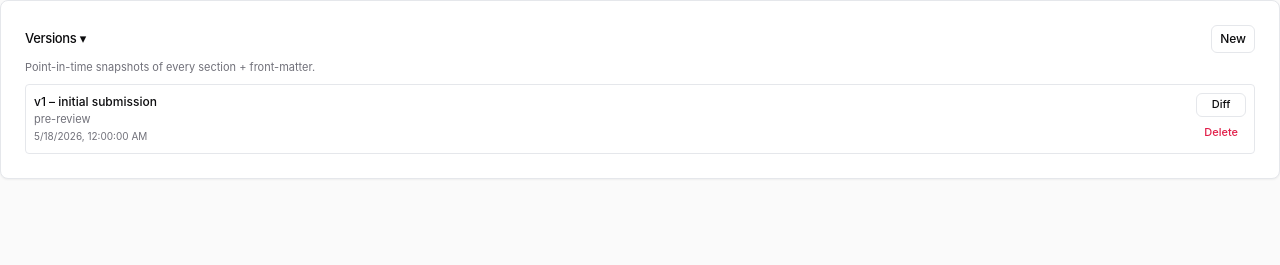
Test: VersionPanel › toggles diff visibility per row
The image size is (1280, 265).
Click the button with test id "snapshot-diff-s1" at [1221, 104], box x1=1196 y1=92 x2=1246 y2=116
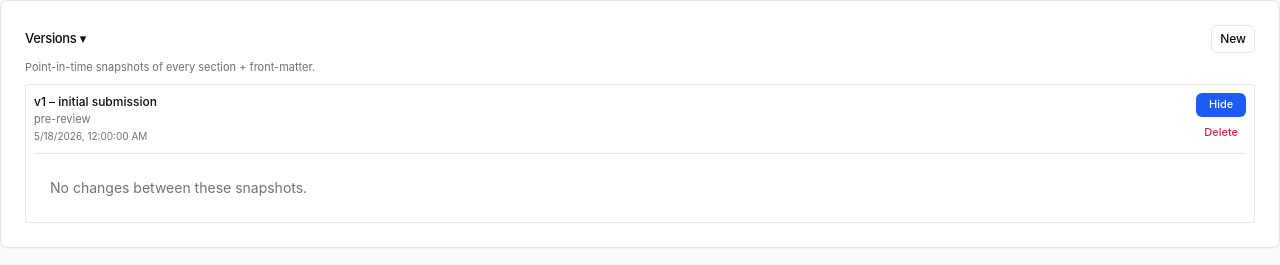
Check: the button with test id "snapshot-diff-s1" reads "Hide", box x1=1196 y1=92 x2=1246 y2=116
